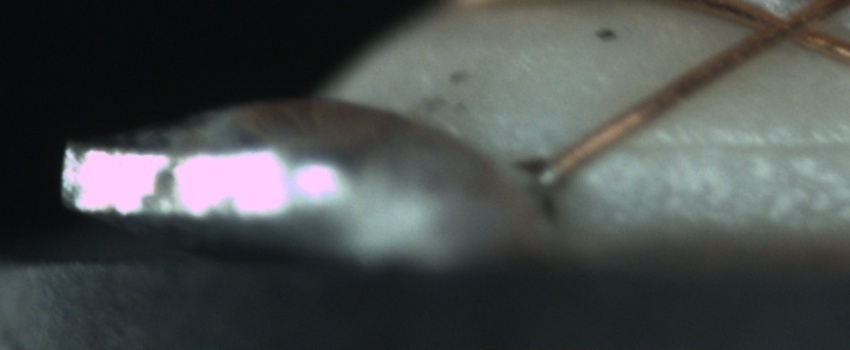CL: (744, 3, 837, 53)
DL: (626, 114, 849, 173)
